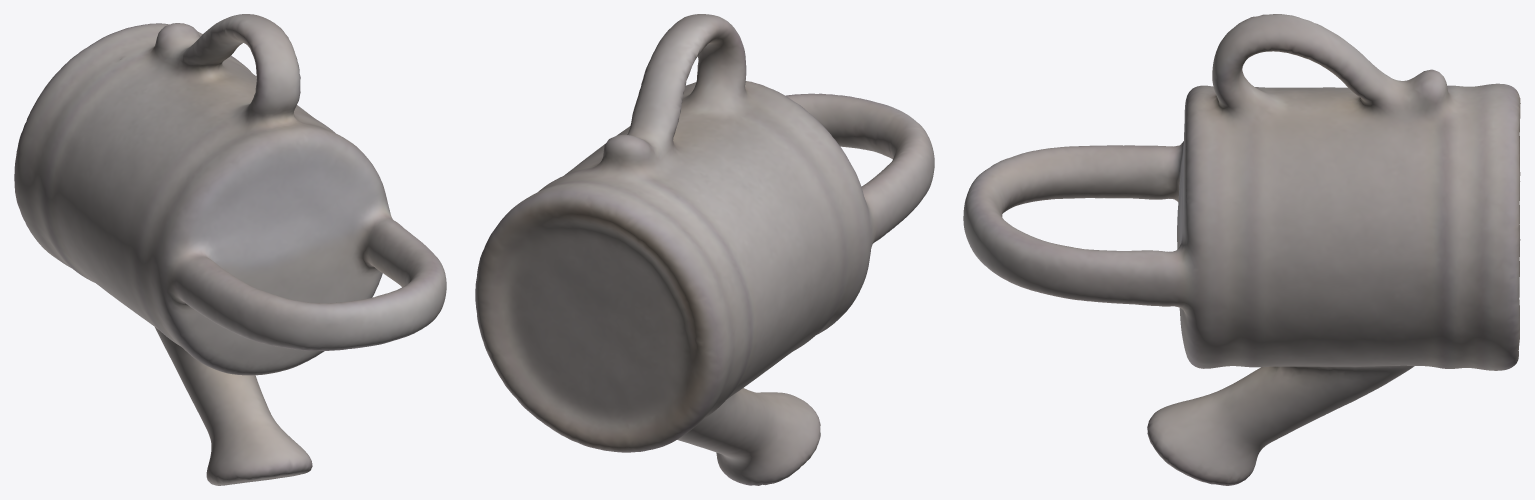
3 views of the same model, side by side, from view 1: azimuth 30°, elevation 25°; view 2: azimuth 150°, elevation 25°; view 3: azimuth 270°, elevation 25° (orthographic). The views are drawn at different scales.
Bounding box in the file's own units: 0.1008 × 0.1818 × 0.1937.
